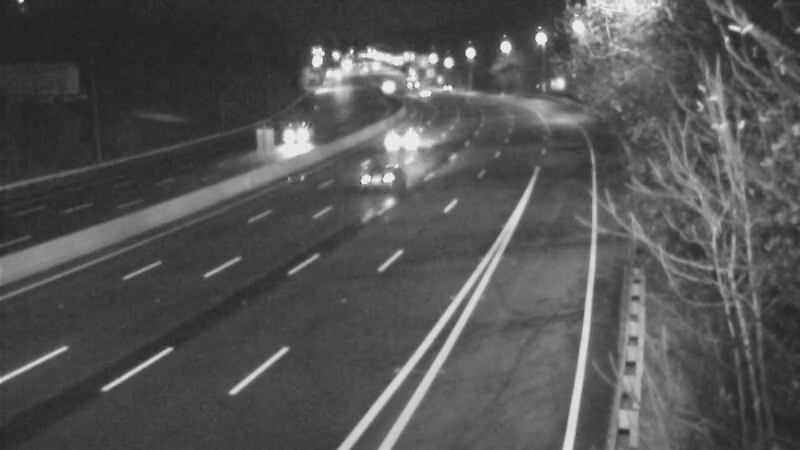vehicle: (342, 139, 422, 219), (421, 64, 471, 114), (385, 62, 435, 112), (363, 61, 413, 111), (401, 70, 451, 120), (376, 110, 426, 160), (276, 111, 326, 161)
